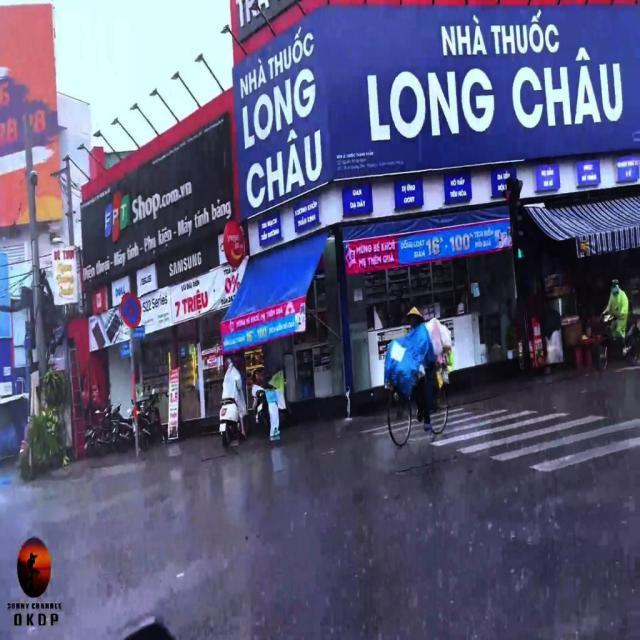130-cam-dung-va-do-xe: (120, 292, 142, 328)
